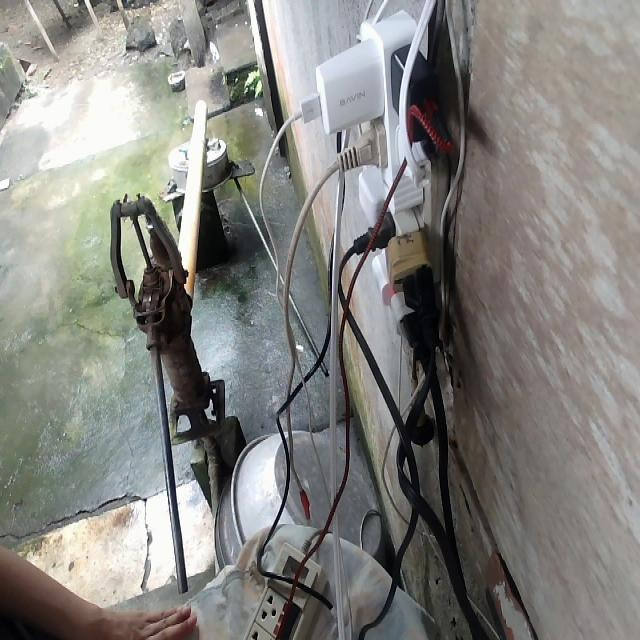-: (297, 8, 448, 355)
